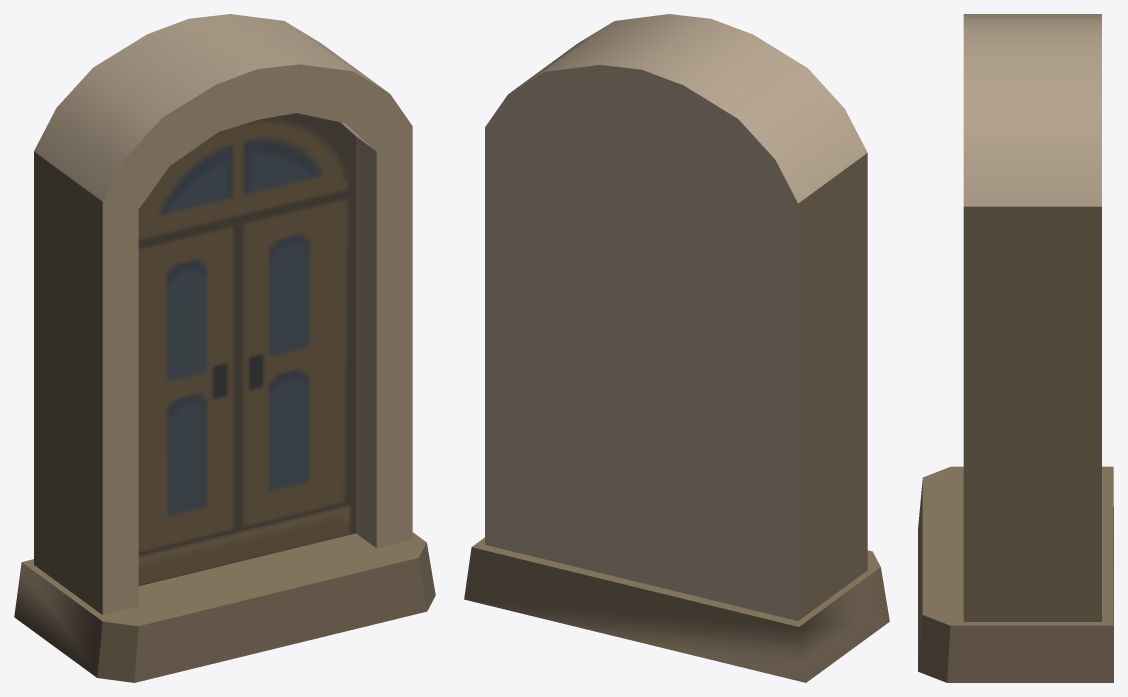
File: Door_B03.fbx
3 renders of one model, left to right at view 1: azimuth 30°, elevation 25°; view 2: azimuth 150°, elevation 25°; view 3: azimuth 270°, elevation 25°, orthographic.
Parts seen in each view (by area): view 1: Door_B03; view 2: Door_B03; view 3: Door_B03.
Part boxes in pixels (x1=…): Door_B03: x1=14, y1=14, x2=435, y2=682; Door_B03: x1=464, y1=14, x2=889, y2=682; Door_B03: x1=918, y1=14, x2=1113, y2=682.
Bounding box in the file's own units: 227 × 359 × 113.
